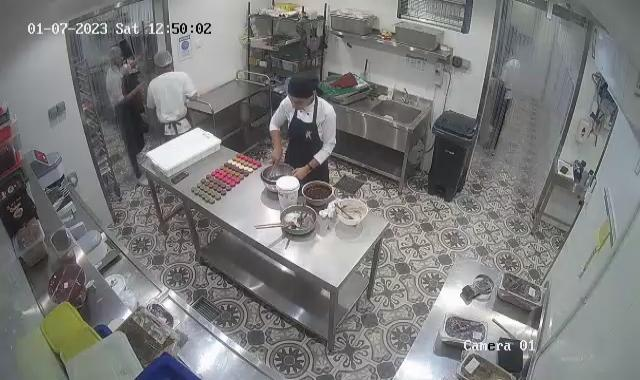hairnet: (154, 50, 174, 73)
no_hairnet: (286, 75, 318, 112)
